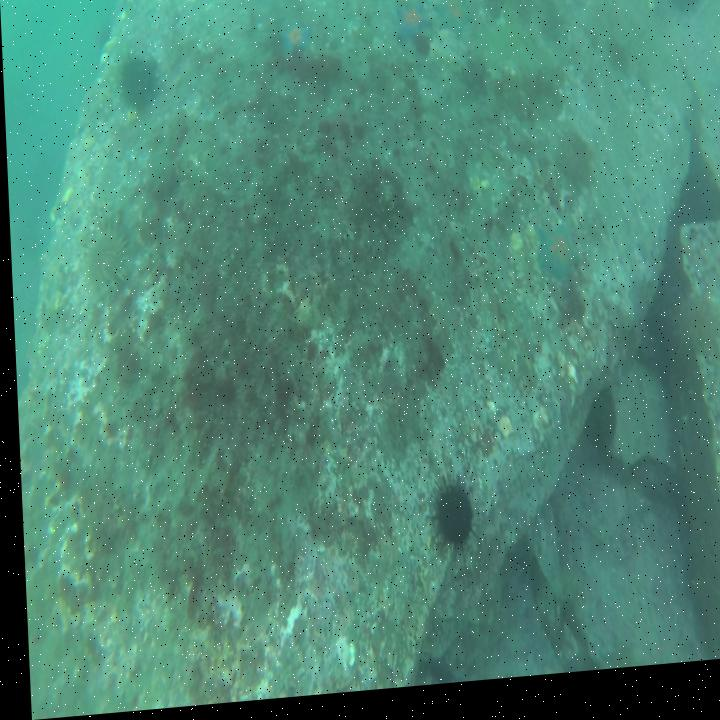echinus: (427, 475, 473, 568), (71, 221, 123, 294), (671, 302, 720, 370), (559, 133, 589, 204), (120, 56, 157, 113), (672, 0, 704, 23)
starfish: (532, 219, 572, 290), (392, 0, 430, 52), (437, 0, 473, 45), (278, 21, 313, 64)
